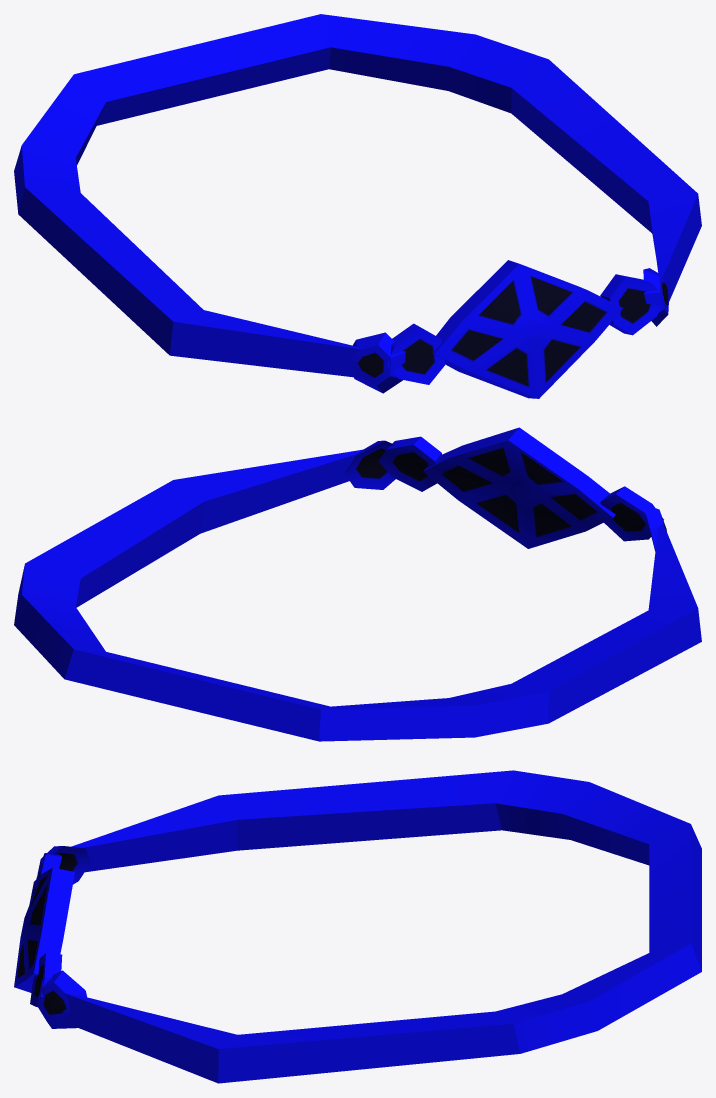
File: Circlet_M.fbx
3 renders of one model, top to bottom at view 1: azimuth 30°, elevation 25°; view 2: azimuth 150°, elevation 25°; view 3: azimuth 270°, elevation 25°, orthographic.
Parts seen in each view (by area): view 1: Circlet_M; view 2: Circlet_M; view 3: Circlet_M.
Boxes of the visible parts, <box> form: Circlet_M: <box>14,14,701,398</box>; Circlet_M: <box>14,427,701,741</box>; Circlet_M: <box>14,770,701,1083</box>.
Size of the model in its own units: 23.18 by 5.33 by 26.2.
